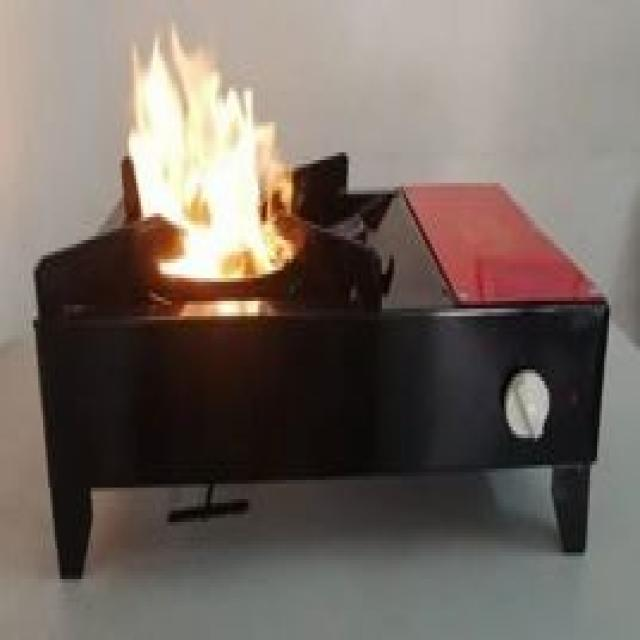fire: (127, 23, 305, 279)
